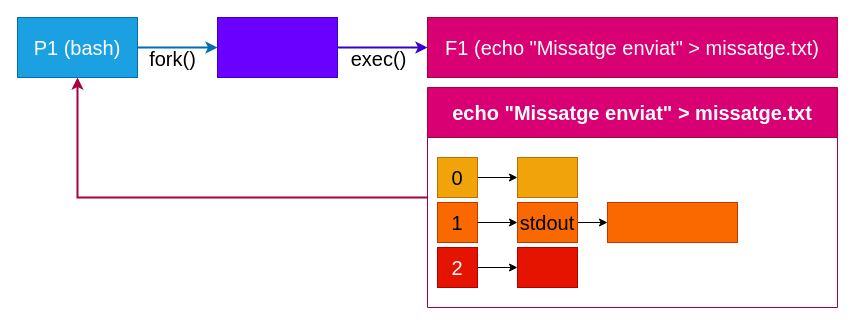
Image size: 855x325. Some labels were removed from this diagram. Each missing label, with the centre of its shape:
"F1 (bash)" goes at (277,47).
"missatge.txt" goes at (672,222).
"stderr" goes at (547,267).
"stdin" goes at (547,177).
